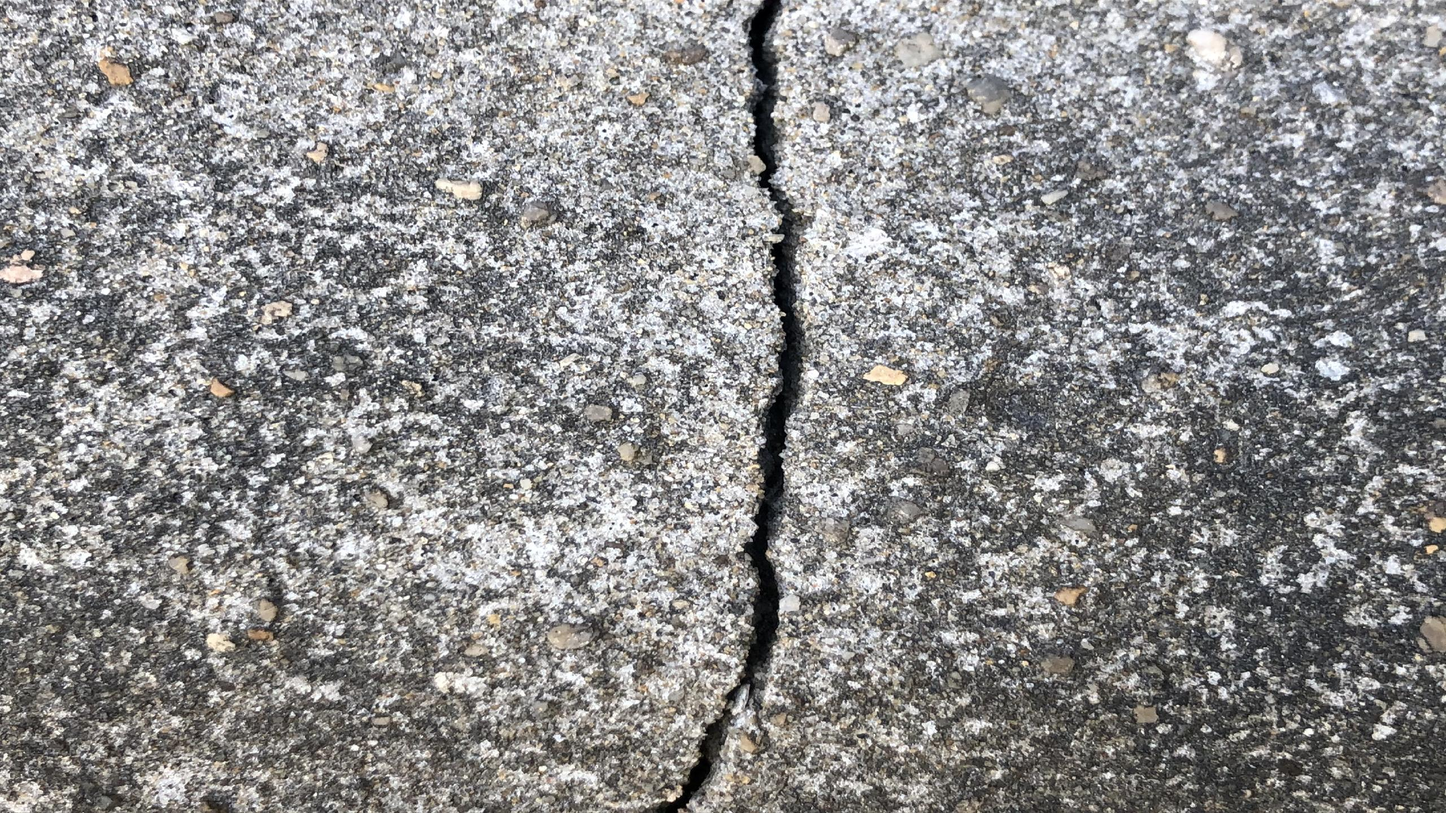crack: (647, 0, 816, 812)
